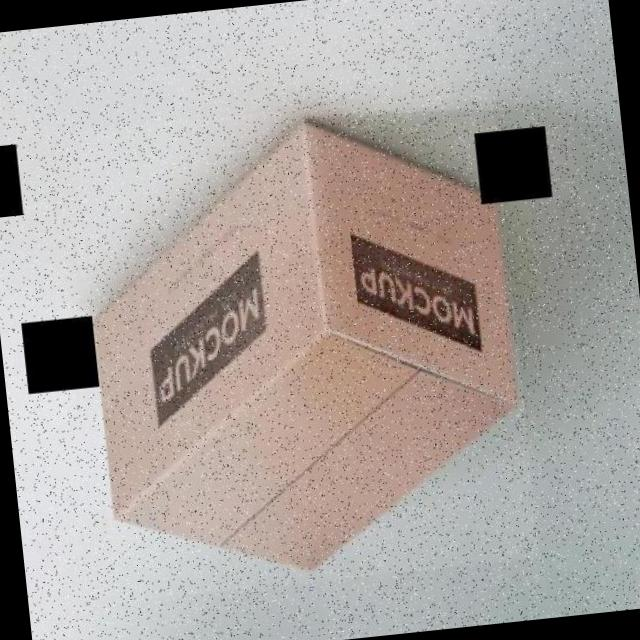box: (67, 89, 540, 602)
